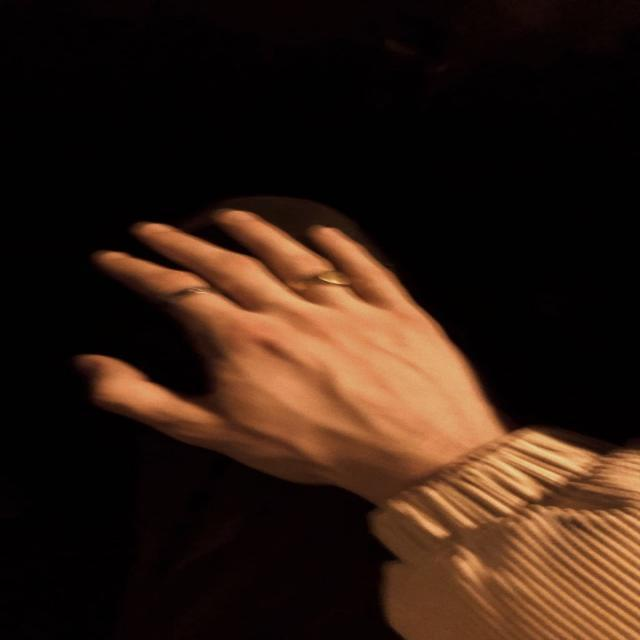no-gloves: (80, 207, 509, 499)
